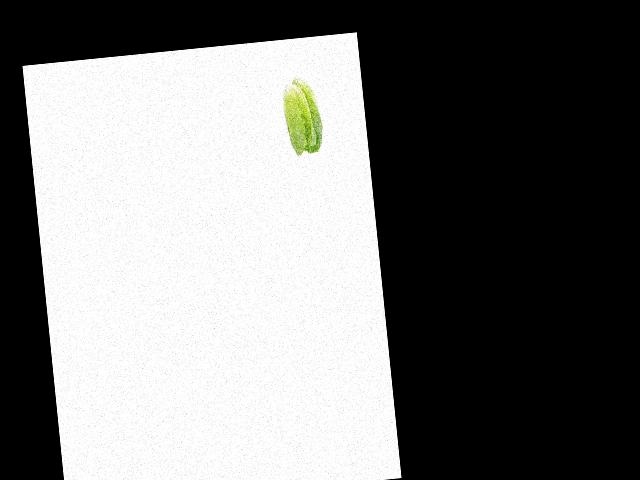lettuce: (276, 76, 324, 157)
